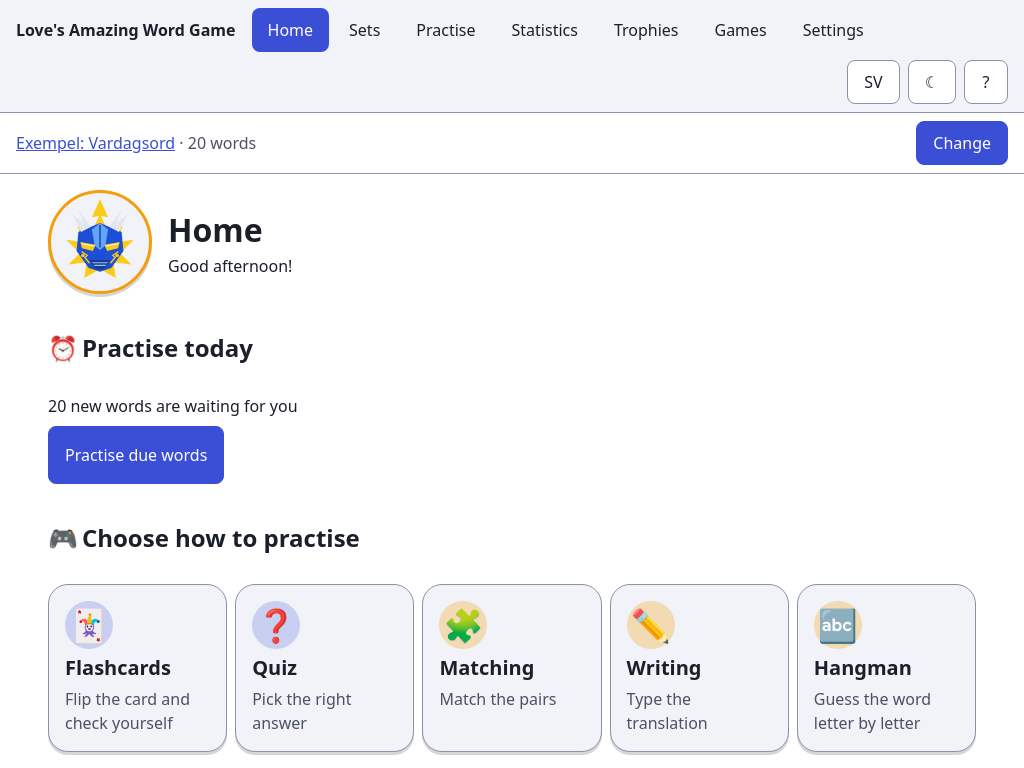
Test: theme › FR-THEME-1: toggles between light and dark instantly and persists the choice
The image size is (1024, 768).
Click the button named "Switch to dark theme": (932, 82) [908,60,956,104]
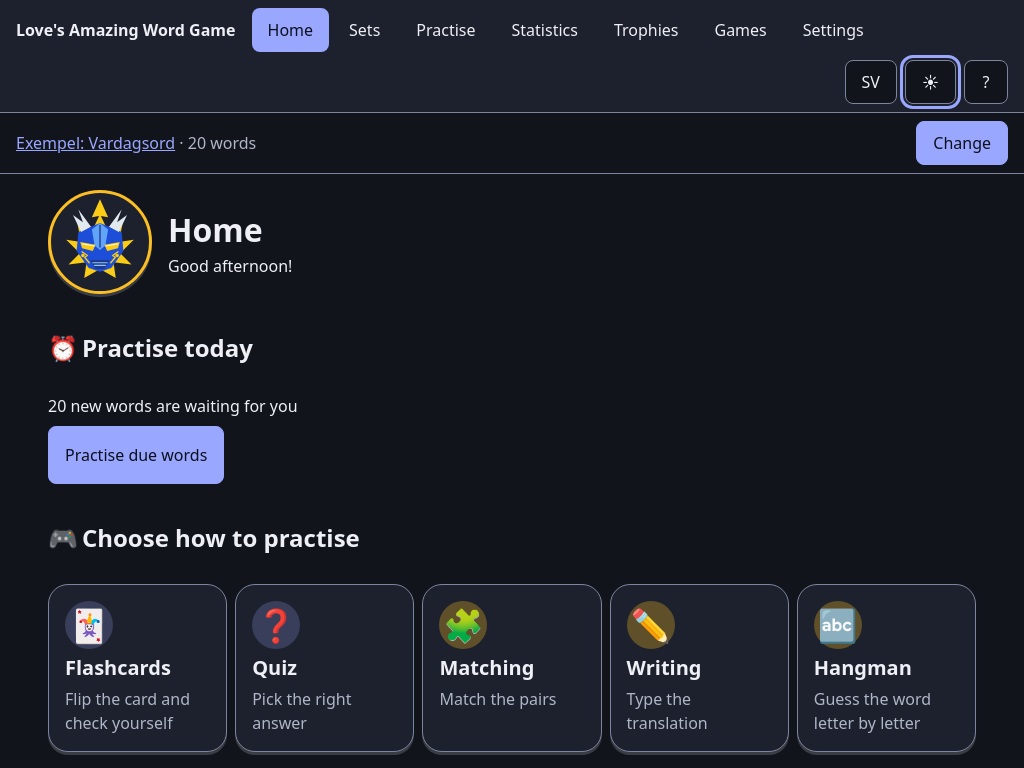
Result: the button named "Switch to light theme" is shown at [905,60,956,104]
